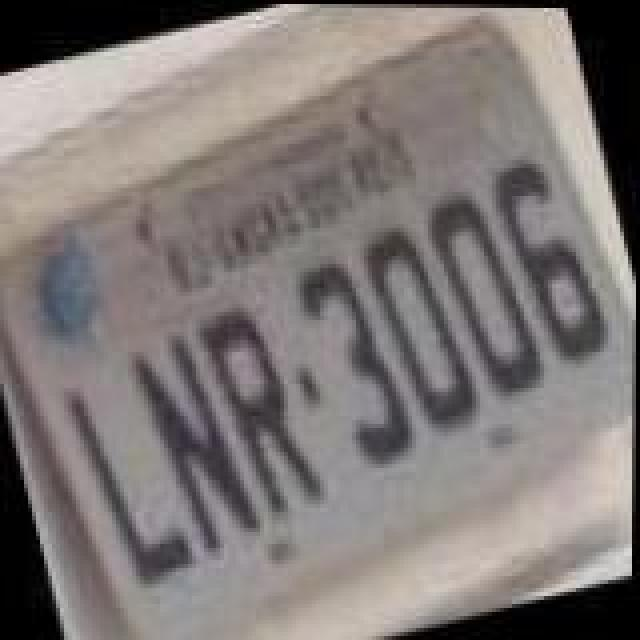3: (288, 248, 424, 480)
6: (484, 148, 616, 368)
L: (60, 372, 200, 592)
N: (126, 324, 270, 560)
O: (354, 218, 486, 438), (418, 184, 550, 404)
R: (192, 298, 328, 526)
